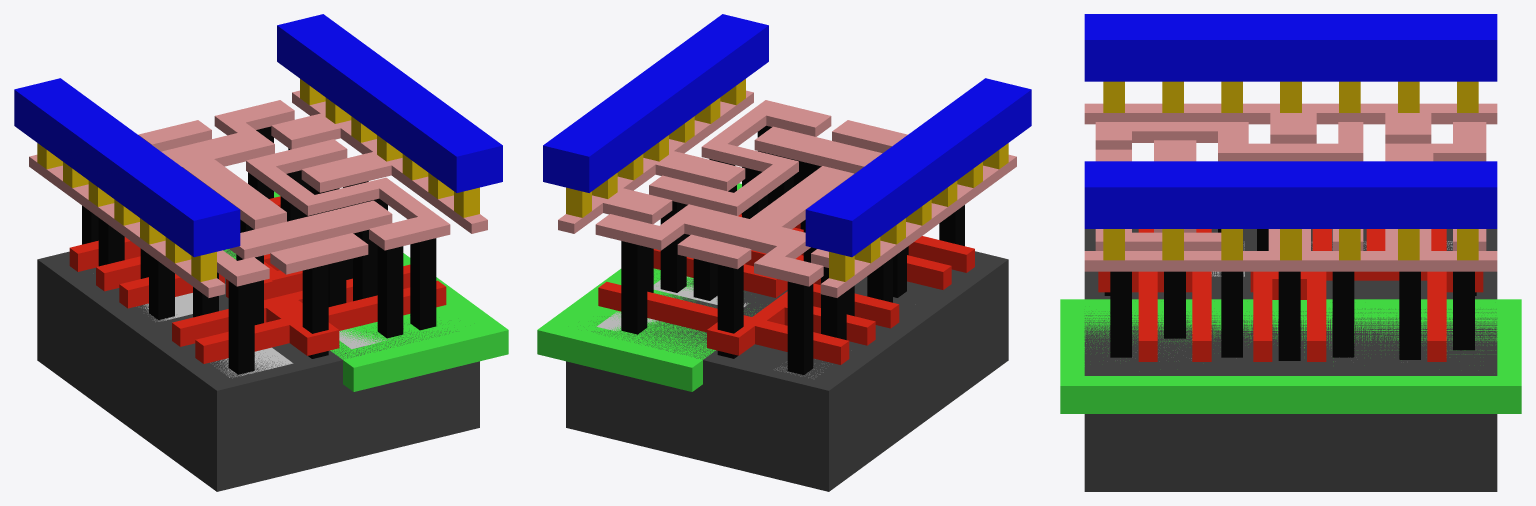
File: sky130_fd_sc_hd__einvp_2.obj
3 renders of one model, left to right at view 1: azimuth 30°, elevation 25°; view 2: azimuth 150°, elevation 25°; view 3: azimuth 270°, elevation 25°, orthographic. The views are drawn at different scales.
Parts seen in each view (by area): view 1: subs, li, metal1, licon, poly, nwell, mcon, diff, tap; view 2: subs, li, metal1, licon, poly, nwell, mcon, tap; view 3: metal1, subs, li, nwell, licon, poly, mcon.
Part boxes in pixels (x1=…): subs: x1=37, y1=249, x2=479, y2=491; li: x1=29, y1=90, x2=487, y2=297; metal1: x1=14, y1=14, x2=502, y2=257; licon: x1=82, y1=126, x2=436, y2=374; poly: x1=69, y1=196, x2=446, y2=363; nwell: x1=223, y1=191, x2=508, y2=391; mcon: x1=37, y1=79, x2=479, y2=281; diff: x1=141, y1=293, x2=293, y2=378; tap: x1=339, y1=329, x2=390, y2=349; subs: x1=566, y1=251, x2=1008, y2=491; li: x1=558, y1=90, x2=1016, y2=297; metal1: x1=543, y1=14, x2=1031, y2=257; licon: x1=621, y1=125, x2=964, y2=374; poly: x1=598, y1=213, x2=974, y2=364; nwell: x1=537, y1=183, x2=755, y2=391; mcon: x1=566, y1=79, x2=1008, y2=281; tap: x1=596, y1=277, x2=748, y2=332; metal1: x1=1084, y1=14, x2=1497, y2=228; subs: x1=1084, y1=229, x2=1497, y2=491; li: x1=1084, y1=103, x2=1497, y2=271; nwell: x1=1060, y1=299, x2=1521, y2=413; licon: x1=1104, y1=229, x2=1476, y2=360; poly: x1=1098, y1=229, x2=1483, y2=361; mcon: x1=1103, y1=81, x2=1478, y2=260.
Bounding box in the file's own units: 3.2 × 2.74 × 3.6.
